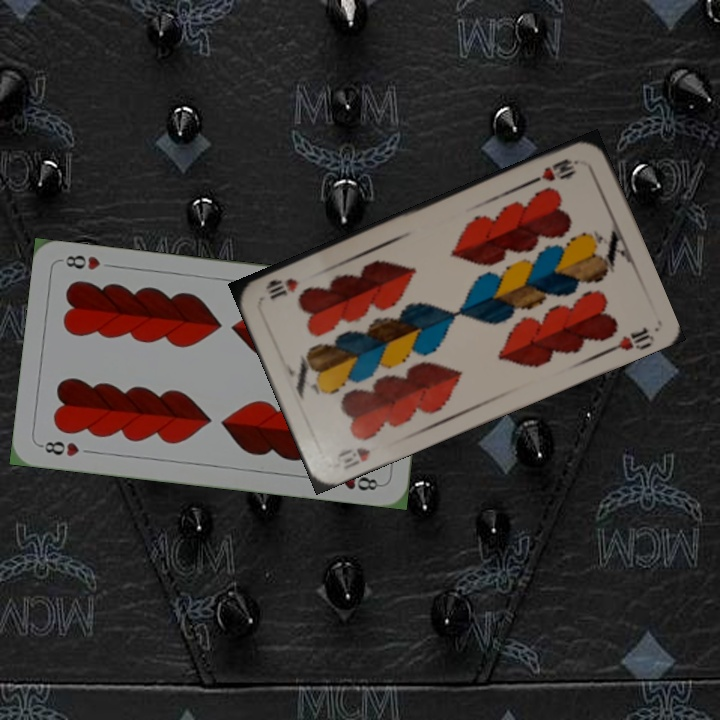H10: (526, 155, 582, 187), (331, 443, 373, 472)
H8: (36, 437, 82, 459)
